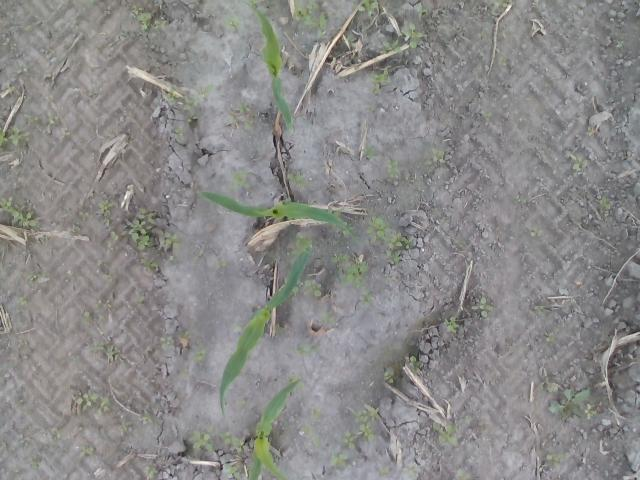Maize: (219, 244, 314, 418), (195, 188, 362, 245), (242, 0, 294, 131), (245, 379, 300, 480)
Weeds: (545, 383, 596, 420), (294, 0, 328, 37), (128, 207, 156, 250), (9, 204, 41, 230), (342, 257, 368, 288), (0, 125, 30, 151), (366, 215, 392, 242), (188, 426, 215, 451), (433, 421, 459, 445), (130, 4, 152, 32), (219, 432, 249, 451), (288, 234, 312, 257), (352, 404, 382, 422), (228, 168, 252, 190), (404, 22, 424, 48), (370, 68, 390, 94), (471, 296, 494, 318), (75, 392, 98, 412), (222, 14, 246, 33), (389, 233, 414, 249), (357, 421, 376, 442), (356, 0, 379, 17), (386, 156, 402, 180), (192, 339, 208, 362), (294, 342, 320, 356), (546, 452, 566, 470), (379, 39, 403, 54), (162, 231, 182, 249), (341, 430, 359, 450), (490, 0, 515, 14), (358, 287, 374, 308), (330, 450, 348, 468), (403, 462, 422, 479), (287, 172, 310, 186), (302, 280, 322, 296), (405, 356, 422, 374), (570, 152, 588, 169), (184, 92, 201, 110), (225, 462, 243, 479), (336, 221, 356, 236), (443, 316, 459, 334), (318, 310, 336, 326), (282, 276, 300, 292), (97, 396, 112, 415), (285, 376, 305, 390), (385, 249, 403, 264), (431, 146, 446, 164), (327, 206, 339, 228), (596, 196, 612, 212), (106, 345, 122, 361), (138, 256, 156, 270), (361, 146, 377, 161), (226, 106, 238, 126), (166, 86, 180, 102), (140, 408, 154, 424), (152, 19, 169, 32), (80, 309, 93, 326), (330, 251, 350, 262), (99, 199, 112, 215), (88, 339, 104, 352), (198, 84, 212, 98), (120, 420, 134, 434), (144, 464, 158, 478), (110, 228, 126, 240), (0, 196, 13, 210), (237, 100, 251, 113), (160, 336, 173, 350), (456, 469, 472, 480), (15, 61, 28, 74), (310, 407, 323, 420), (480, 108, 492, 122), (134, 289, 146, 303), (177, 328, 191, 340), (300, 423, 314, 435), (477, 28, 492, 39), (4, 80, 15, 95), (80, 446, 95, 457), (382, 371, 394, 384), (530, 227, 545, 237), (78, 209, 90, 221), (244, 119, 256, 131), (173, 126, 185, 138), (214, 258, 227, 269), (187, 112, 200, 123), (514, 195, 528, 205), (274, 322, 284, 336), (342, 34, 357, 43), (247, 0, 260, 10), (102, 272, 115, 282), (26, 273, 42, 281), (67, 223, 81, 232), (193, 249, 204, 260), (98, 314, 109, 325), (417, 7, 428, 18), (533, 304, 545, 314), (60, 128, 70, 140), (28, 458, 40, 468), (48, 112, 56, 126), (545, 331, 555, 342), (52, 428, 62, 439), (586, 126, 596, 136), (103, 217, 113, 227), (365, 104, 377, 112), (236, 398, 248, 406), (16, 339, 26, 348), (164, 255, 174, 264), (0, 440, 9, 450), (180, 368, 189, 378), (314, 437, 322, 448), (70, 20, 79, 29), (500, 56, 508, 66), (500, 28, 508, 38), (26, 114, 36, 122), (106, 243, 114, 253), (24, 24, 34, 32), (18, 297, 28, 305), (380, 466, 389, 474), (1, 38, 10, 46), (384, 273, 394, 280), (617, 40, 625, 48), (234, 322, 242, 330), (336, 266, 344, 273), (332, 240, 340, 247), (88, 0, 95, 4)
